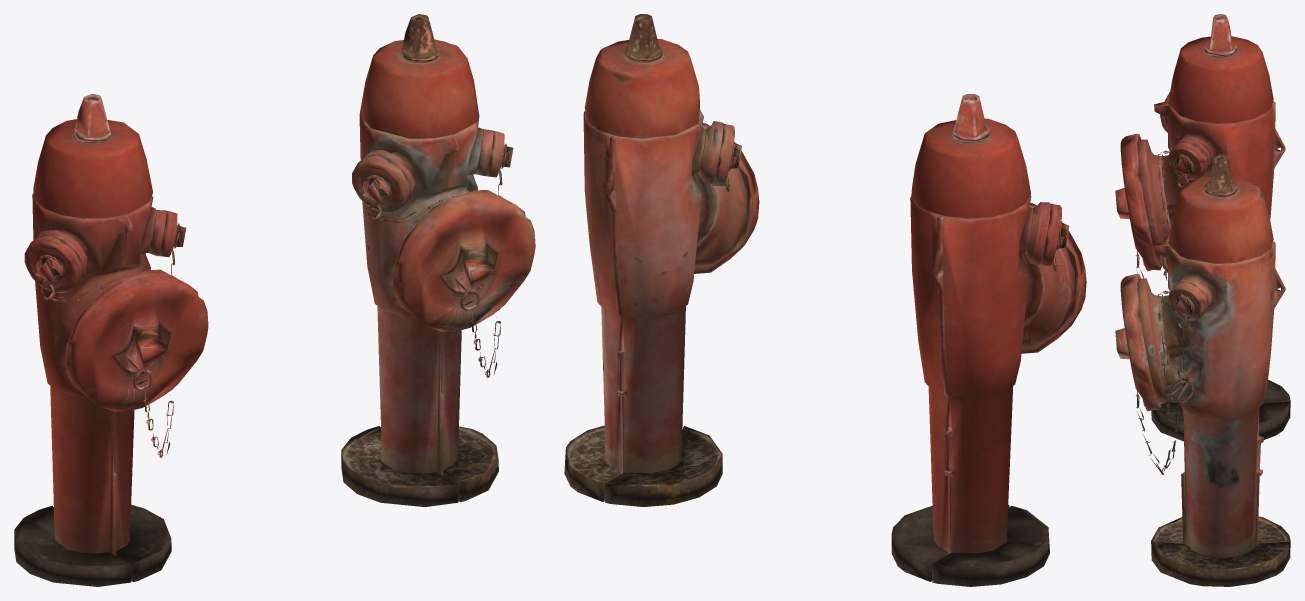
Rendered from fire_hydrant.glb.
3 views of the same model, side by side, from view 1: azimuth 30°, elevation 25°; view 2: azimuth 150°, elevation 25°; view 3: azimuth 270°, elevation 25° (orthographic). The views are drawn at different scales.
Visible parts, largest first — view 1: object 2, object 1, fire_hydrant_cap_01, fire_hydrant_cap_01_aged, fire_hydrant_cap_03, fire_hydrant_cap_03_aged, fire_hydrant_chain, fire_hydrant_chain_aged, fire_hydrant_cap_02_aged, fire_hydrant_cap_02; view 2: object 2, object 1, fire_hydrant_cap_01_aged, fire_hydrant_cap_01, fire_hydrant_cap_03_aged, fire_hydrant_cap_03; view 3: object 2, object 1, fire_hydrant_cap_01, fire_hydrant_cap_01_aged, fire_hydrant_chain_aged, fire_hydrant_cap_02, fire_hydrant_cap_02_aged, fire_hydrant_chain.
Part boxes in pixels (x1,y1,x2,y2): object 2: [341, 14, 498, 506]; object 1: [14, 94, 171, 586]; fire_hydrant_cap_01: [65, 269, 208, 411]; fire_hydrant_cap_01_aged: [392, 190, 535, 331]; fire_hydrant_cap_03: [24, 235, 83, 293]; fire_hydrant_cap_03_aged: [352, 155, 410, 213]; fire_hydrant_chain: [40, 224, 177, 457]; fire_hydrant_chain_aged: [367, 145, 504, 377]; fire_hydrant_cap_02_aged: [485, 131, 513, 177]; fire_hydrant_cap_02: [158, 211, 186, 257]; object 2: [564, 14, 747, 506]; object 1: [891, 94, 1074, 586]; fire_hydrant_cap_01_aged: [694, 123, 759, 273]; fire_hydrant_cap_01: [1021, 203, 1086, 353]; fire_hydrant_cap_03_aged: [712, 123, 741, 186]; fire_hydrant_cap_03: [1039, 203, 1069, 265]; object 2: [1137, 154, 1290, 586]; object 1: [1137, 14, 1290, 441]; fire_hydrant_cap_01: [1115, 133, 1161, 271]; fire_hydrant_cap_01_aged: [1115, 273, 1161, 411]; fire_hydrant_chain_aged: [1136, 290, 1195, 474]; fire_hydrant_cap_02: [1168, 141, 1208, 180]; fire_hydrant_cap_02_aged: [1168, 282, 1207, 320]; fire_hydrant_chain: [1136, 150, 1193, 280].
Size of the model in its own units: 0.8745 by 0.7992 by 0.3173.
Materials: 2 (2 with a texture image).
